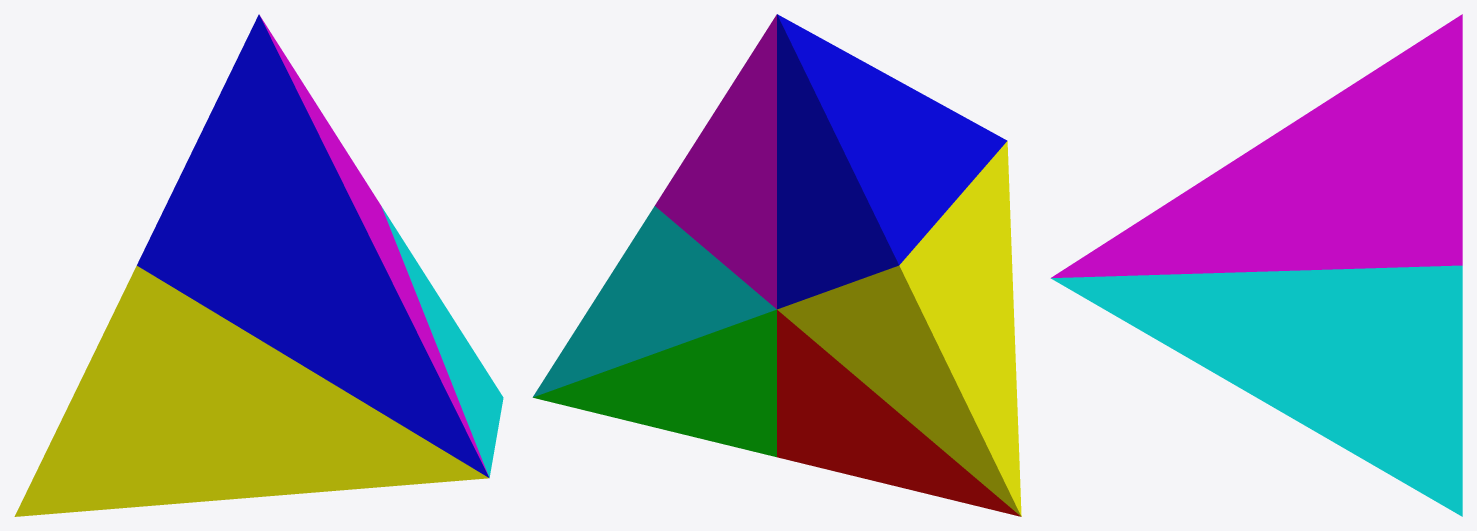
The model's file is tetrahedron_six_regions.glb.
The picture shows the model from 3 angles, left to right: view 1: azimuth 30°, elevation 25°; view 2: azimuth 150°, elevation 25°; view 3: azimuth 270°, elevation 25°; orthographic projection. The views are drawn at different scales.
Bounding box in the file's own units: 1 × 0.866 × 0.8165.
